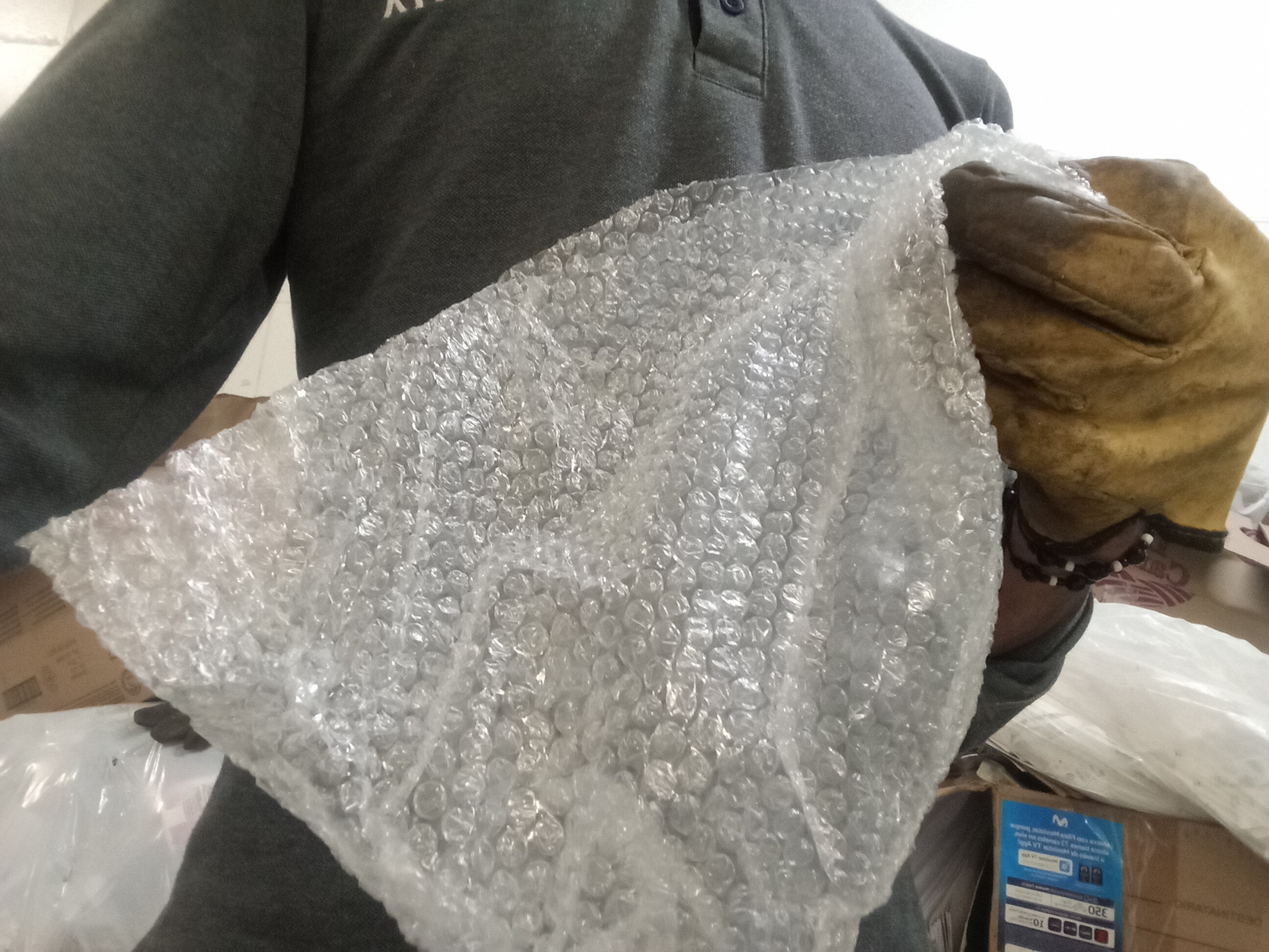Plastico: (19, 118, 1005, 952)
